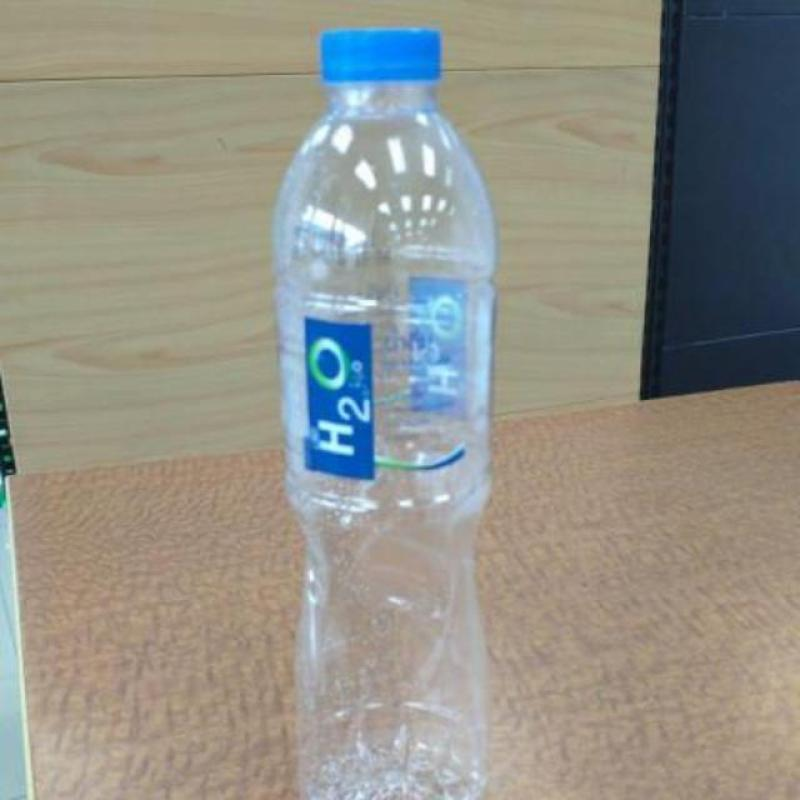botella: (274, 30, 496, 800)
